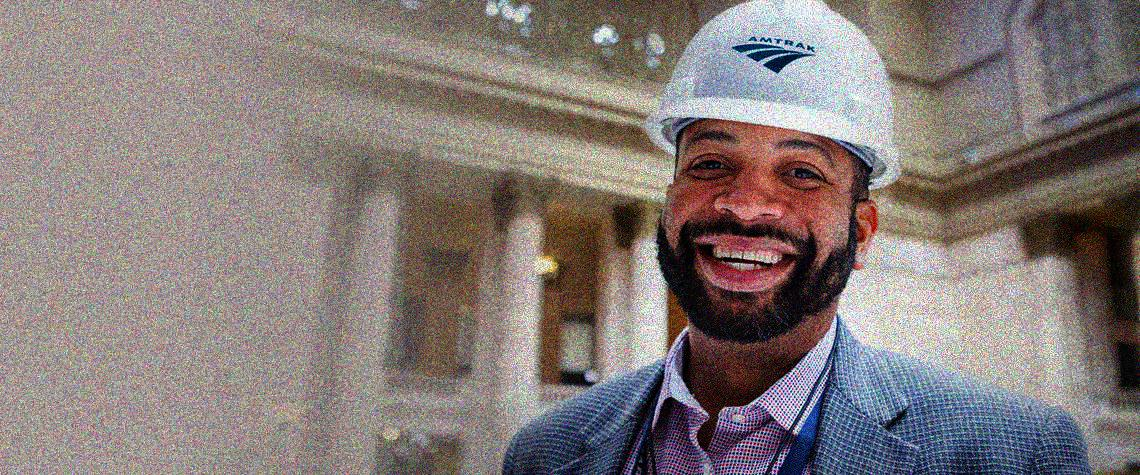helmet: (647, 1, 902, 331)
